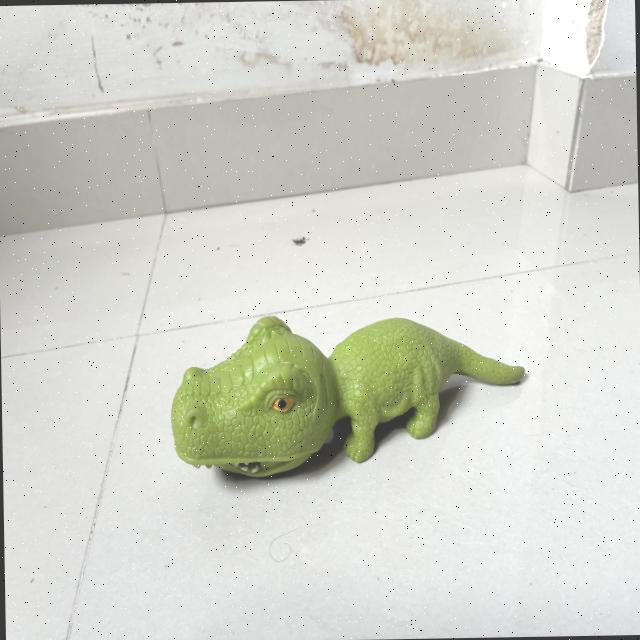dinosaur: (171, 315, 524, 477)
